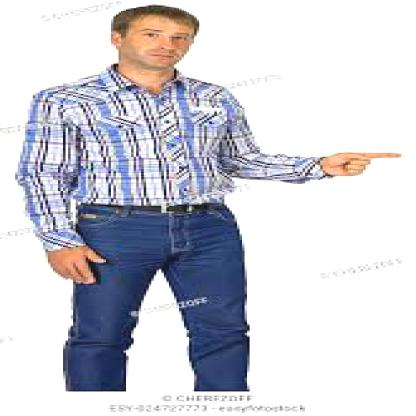Left: (309, 136, 406, 198)
